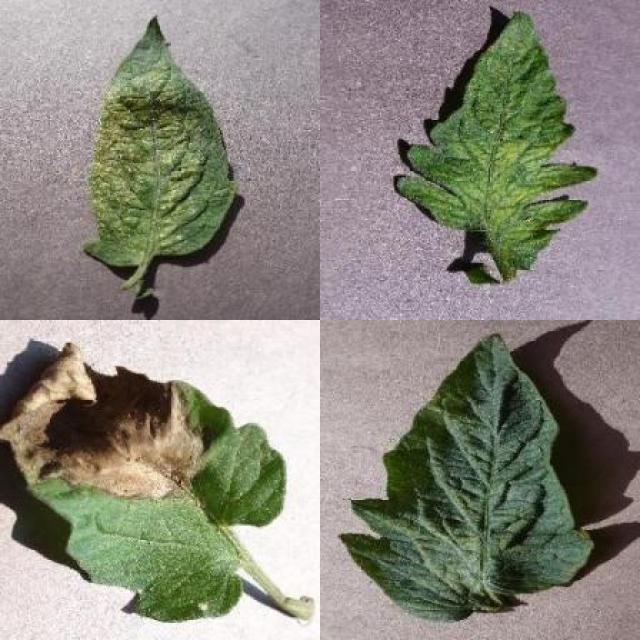Late Blight: (0, 341, 287, 626)
Mosaic Virus: (394, 8, 600, 272)
Spider Mites: (339, 331, 594, 624), (84, 13, 240, 266)
